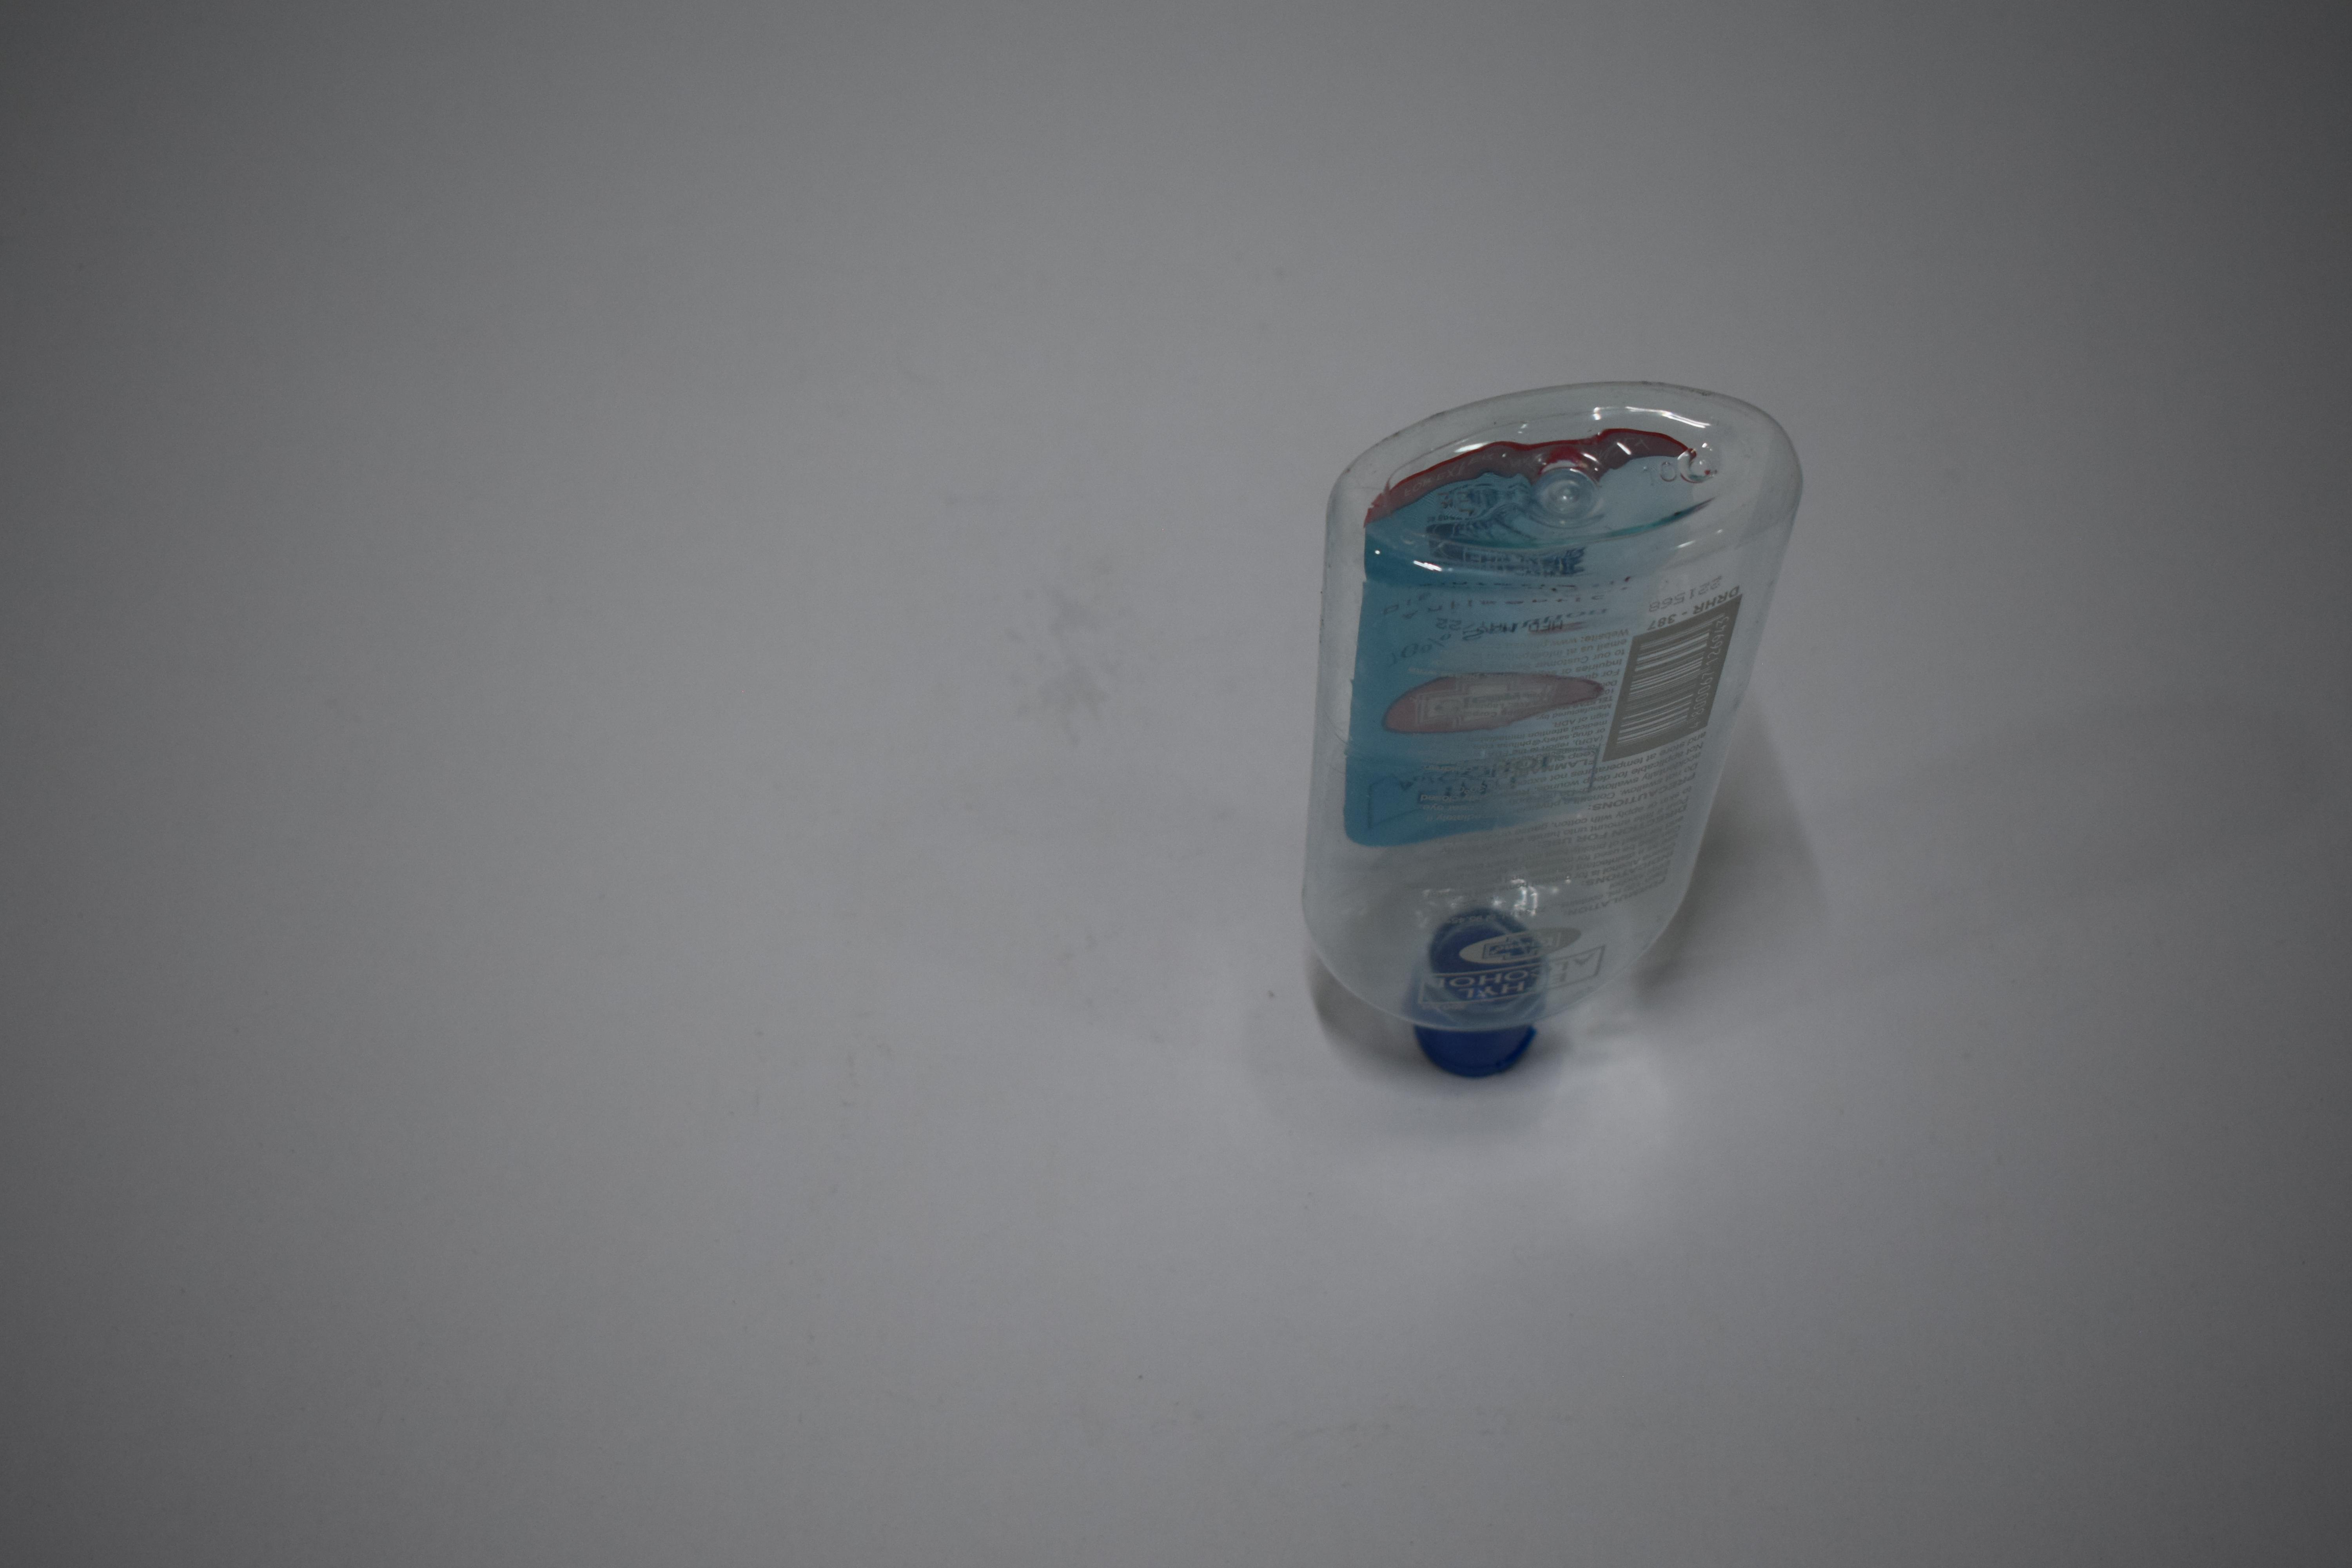bottle: (1172, 364, 1694, 1088)
